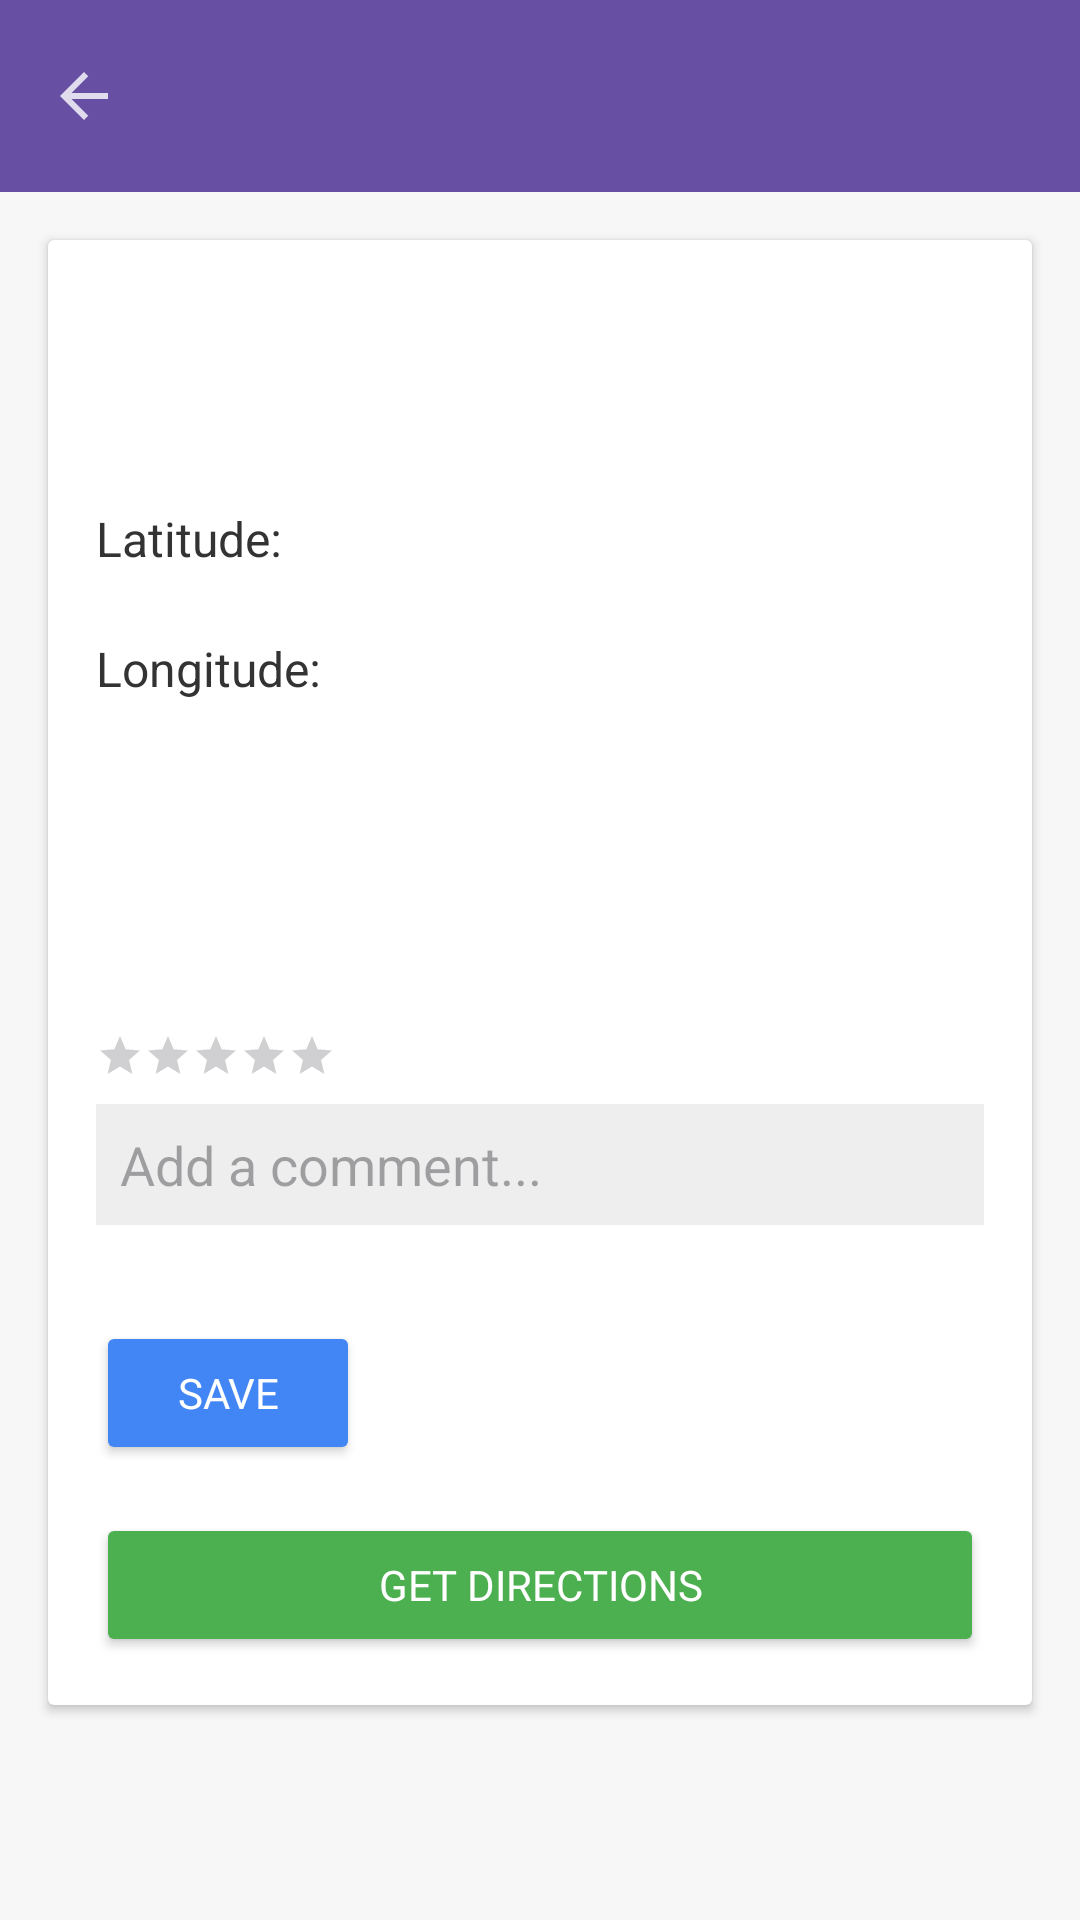

Screen size 1080px×1920px. Icon name, then its center in pixels as [x,y]:
Back: [84,96]
